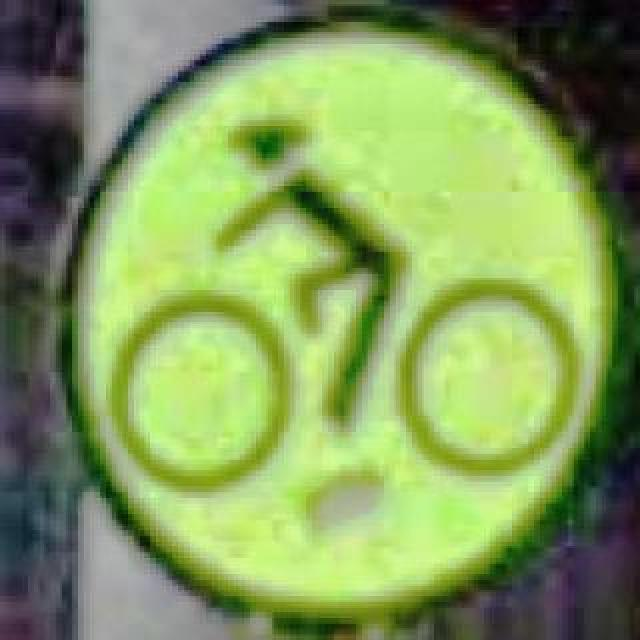bike lane: (56, 6, 612, 618)
